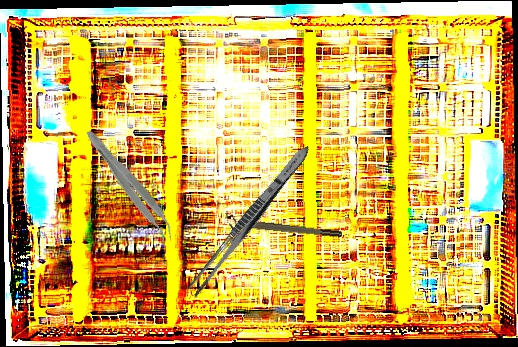Dressing Forceps: (183, 140, 315, 302)
Fixation Ring: (228, 215, 343, 244)
Tissue Forceps: (77, 126, 182, 247)
